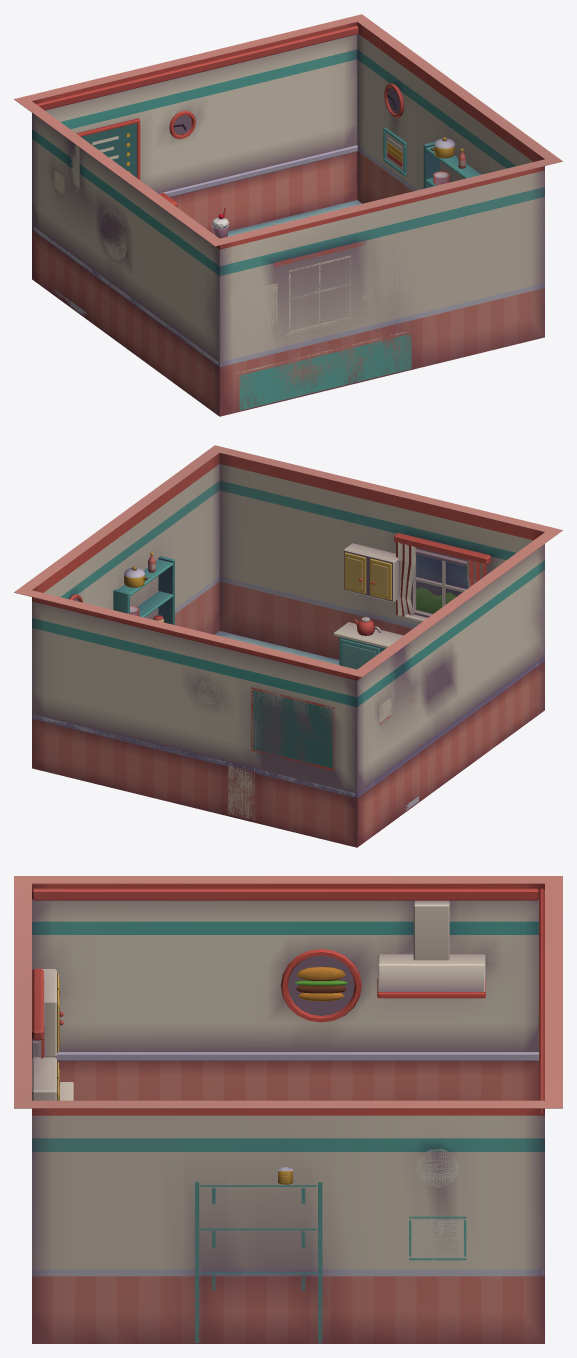
3 views of the same model, one above another, from view 1: azimuth 30°, elevation 25°; view 2: azimuth 150°, elevation 25°; view 3: azimuth 270°, elevation 25° (orthographic). The views are drawn at different scales.
Parts seen in each view (by area): view 1: back, room, table; view 2: room, back, table; view 3: back, room.
Boxes of the visible parts, left/top/right/bottom form: back: left=208, top=14, right=562, bottom=416; room: left=14, top=17, right=358, bottom=416; table: left=227, top=200, right=361, bottom=236; room: left=25, top=532, right=556, bottom=847; back: left=14, top=445, right=562, bottom=669; table: left=215, top=631, right=339, bottom=664; back: left=14, top=876, right=562, bottom=1343; room: left=32, top=876, right=562, bottom=1274.
Size of the model in its own units: 9.2 by 4.5 by 9.2.
